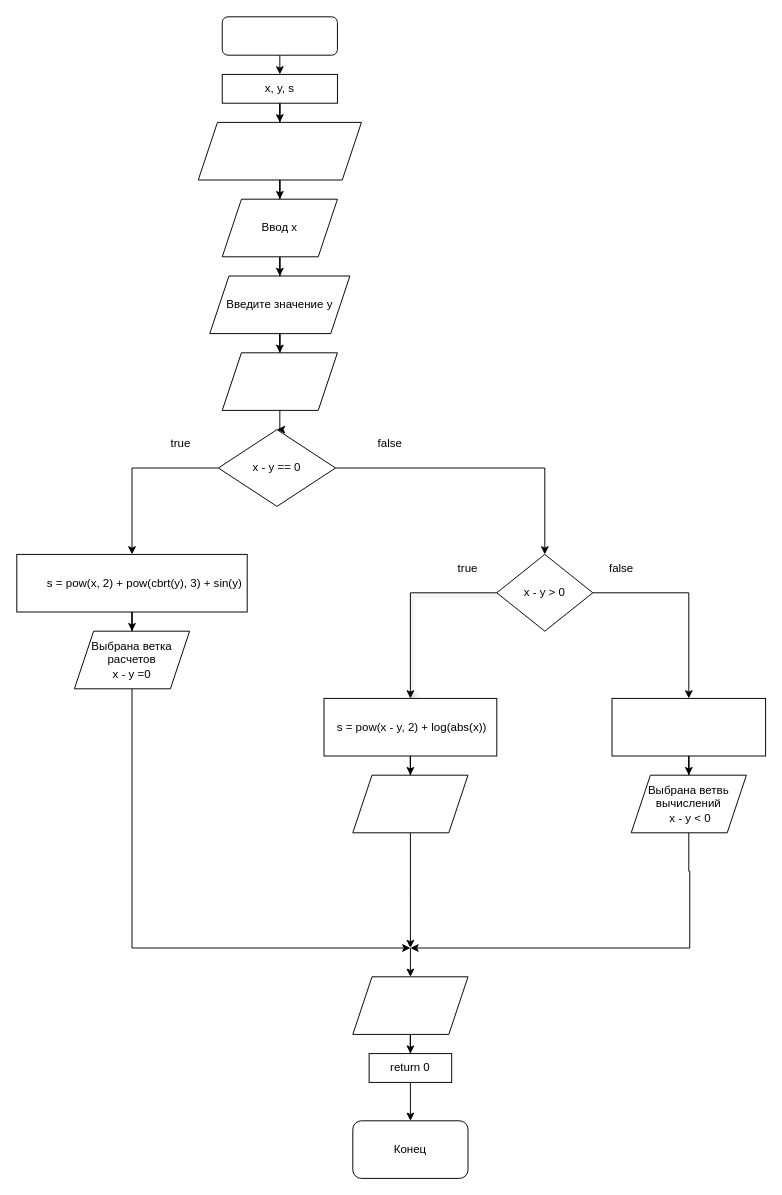
Image size: 782x1195. Some labels were removed from this diagram. The shapes that lost their labels are listed below. From the top down, each one's centre as x and y in pixels, then its label:
At (279,35): "начало".
At (279,150): "Введите значение х".
At (279,381): "Ввод у".
At (688,726): "s = pow(y - x, 2) + tan(y)".
At (410,803): "Выбрана ветвь вычислений x - y > 0".
At (410,1005): "Вывод s".
